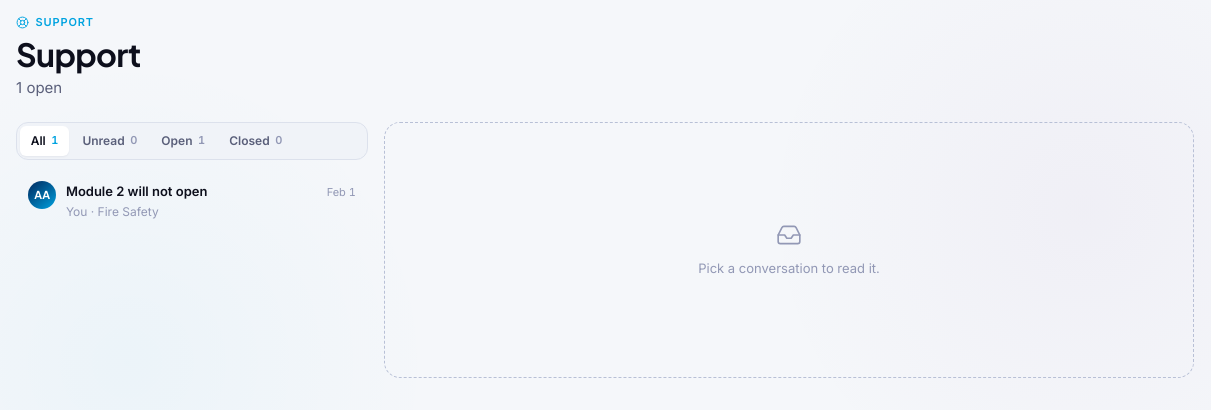
Test: the inbox › shows nothing when the open thread leaves the list
This screenshot has width=1211, height=410.
Click the button "AA Module 2 will not open Feb 1 You · Fire Safety". click: (137, 191)
box: top-left (16, 170), bottom-right (368, 237)
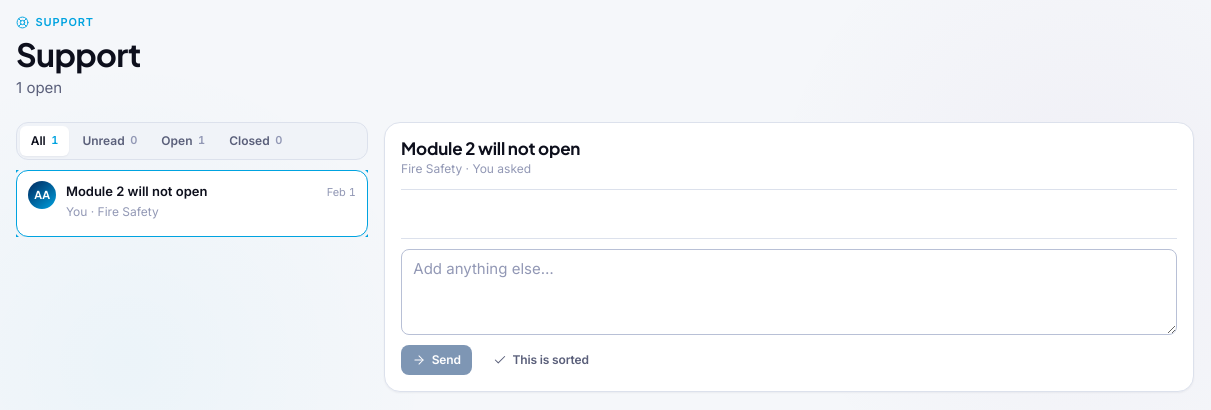
expect the heading "Module 2 will not open" is shown: met, box top-left (401, 137), bottom-right (580, 159)
